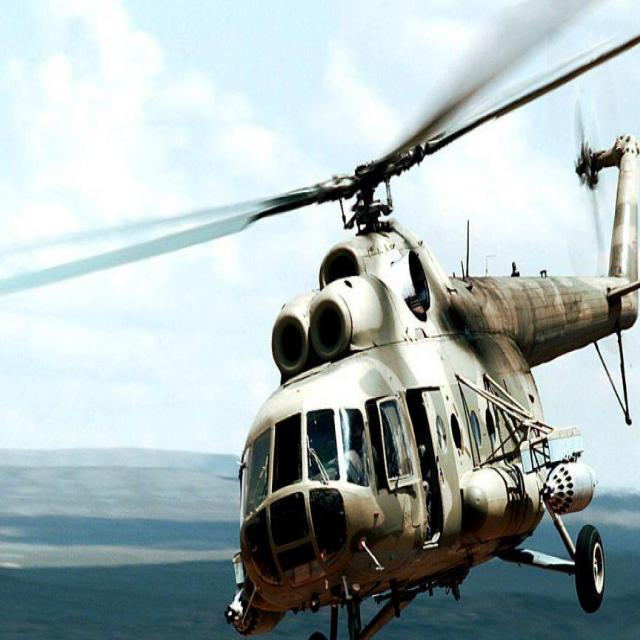helicopter: (101, 53, 640, 640)
